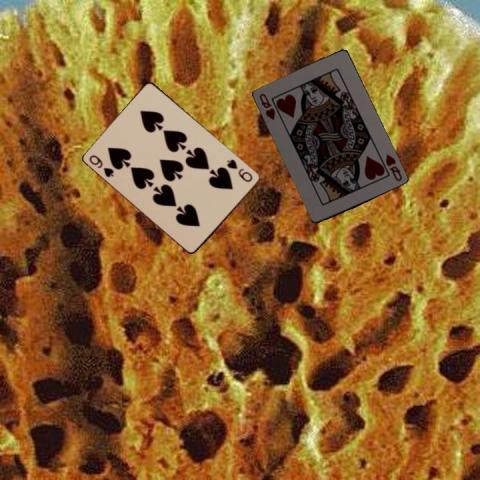9s: (224, 156, 254, 183), (86, 152, 115, 179)
Qh: (383, 150, 404, 182), (257, 91, 277, 121)
